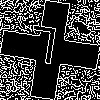L: (25, 25, 59, 74)
